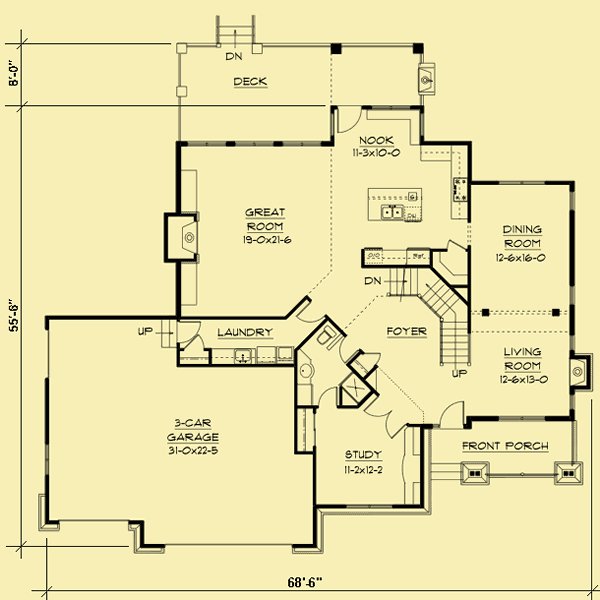door: (366, 392, 407, 441), (433, 396, 469, 430), (177, 316, 207, 351), (333, 101, 362, 137), (294, 299, 328, 323), (314, 385, 340, 413), (364, 345, 383, 369)
kitchen bar: (366, 185, 431, 223)
large sink: (312, 322, 340, 348)
small sink: (296, 354, 314, 388)
stairs: (386, 264, 471, 378), (212, 13, 259, 65), (133, 316, 185, 353)
windows: (181, 137, 324, 150), (492, 411, 550, 425), (340, 500, 397, 514), (491, 177, 549, 189), (40, 439, 52, 480), (564, 283, 581, 309), (566, 187, 578, 218)
